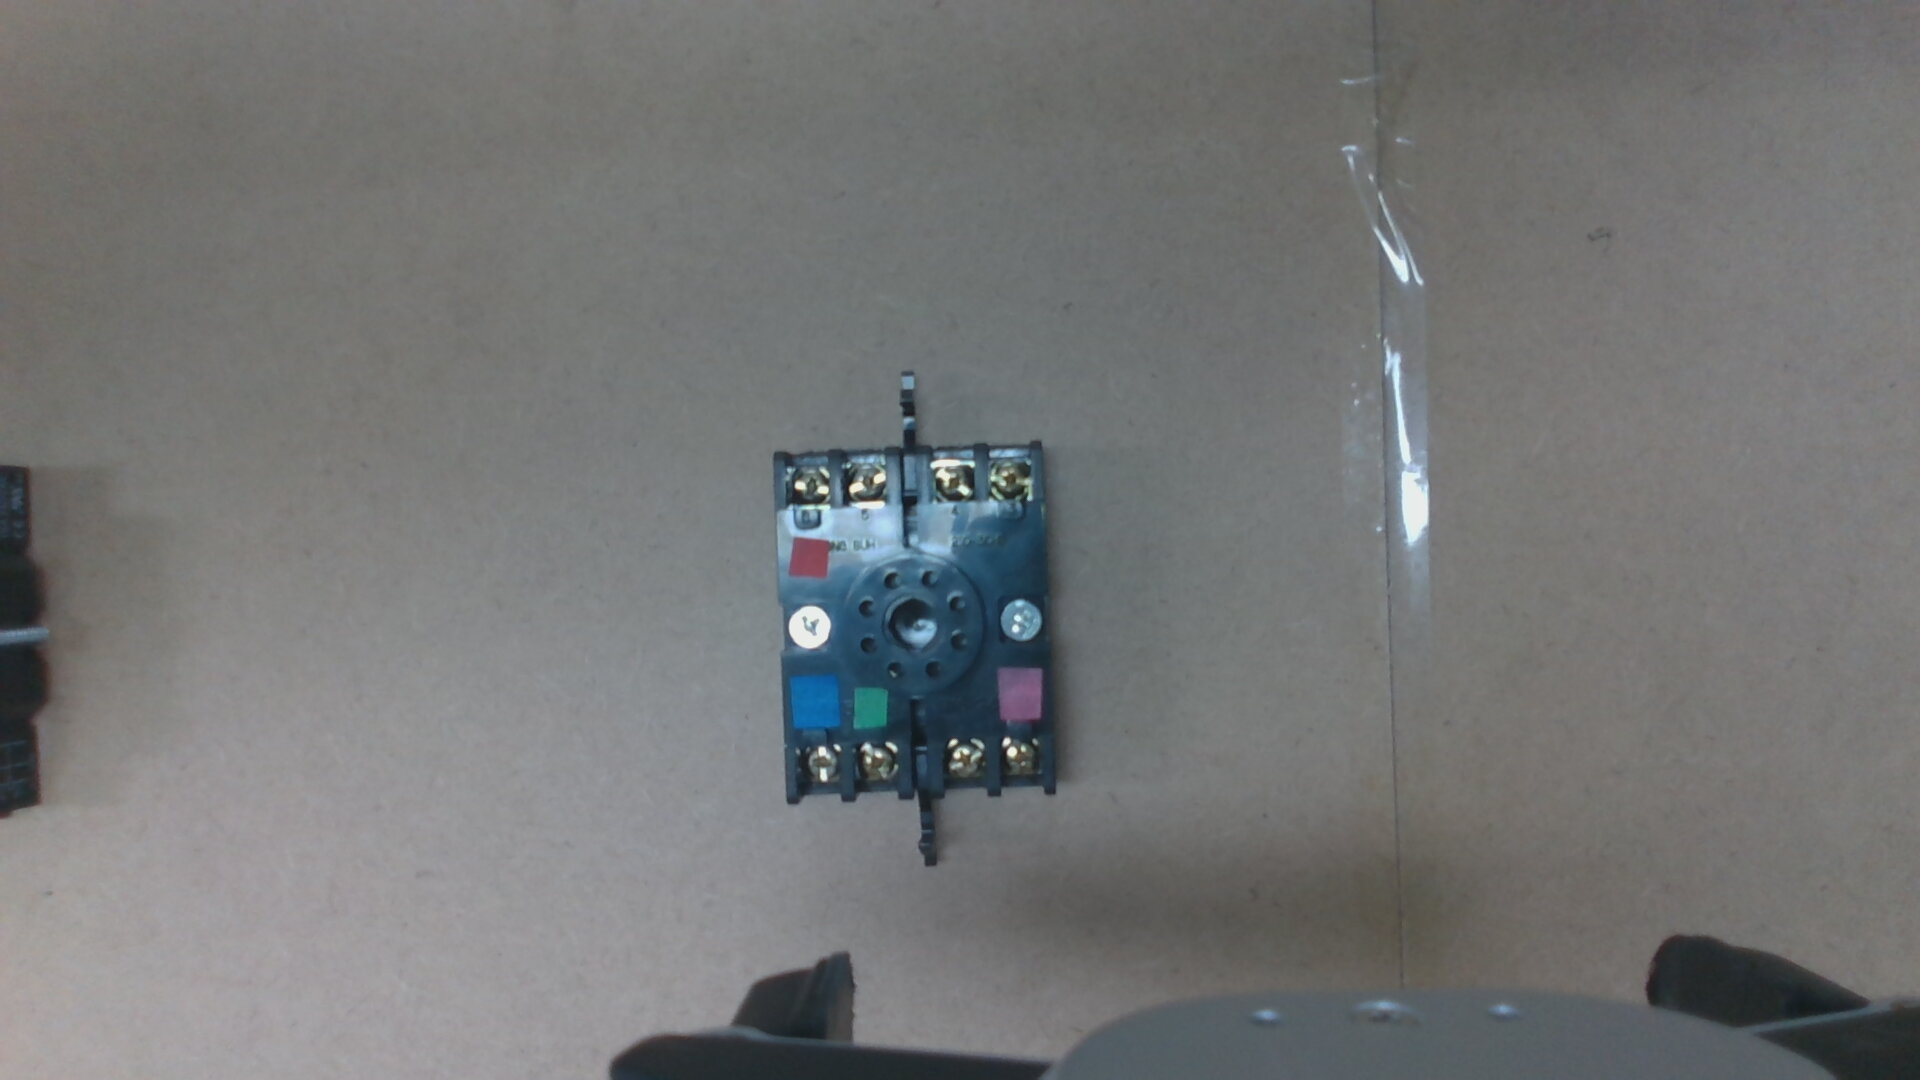timer 2: (1001, 740, 1040, 775)
timer 6: (787, 469, 827, 501)
timer 7: (800, 750, 839, 782)
timer 8: (857, 742, 895, 782)
